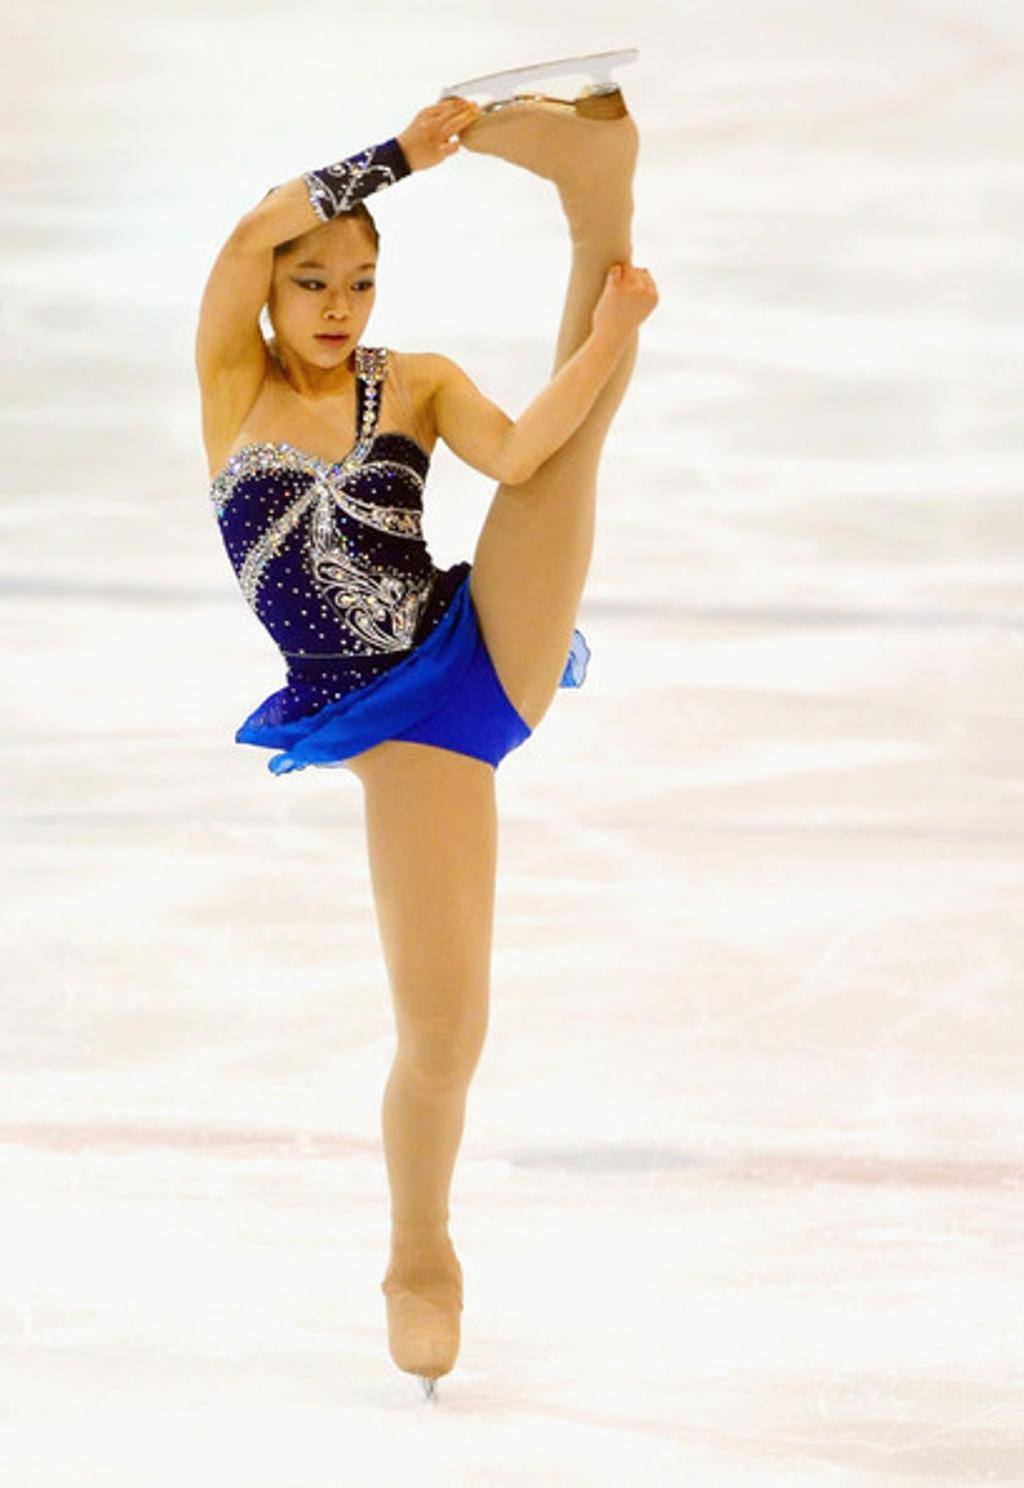face: (270, 212, 374, 369)
